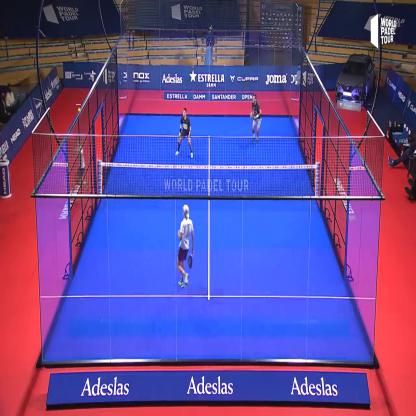ball: (76, 104, 82, 115)
